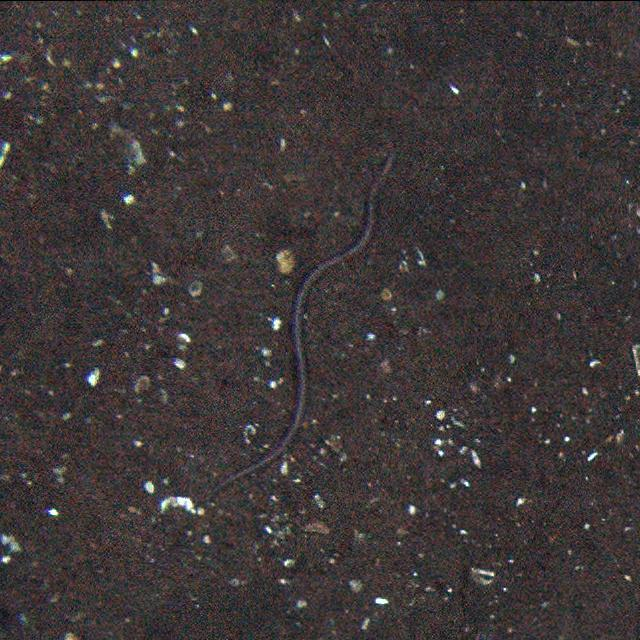eel: (223, 151, 391, 493)
